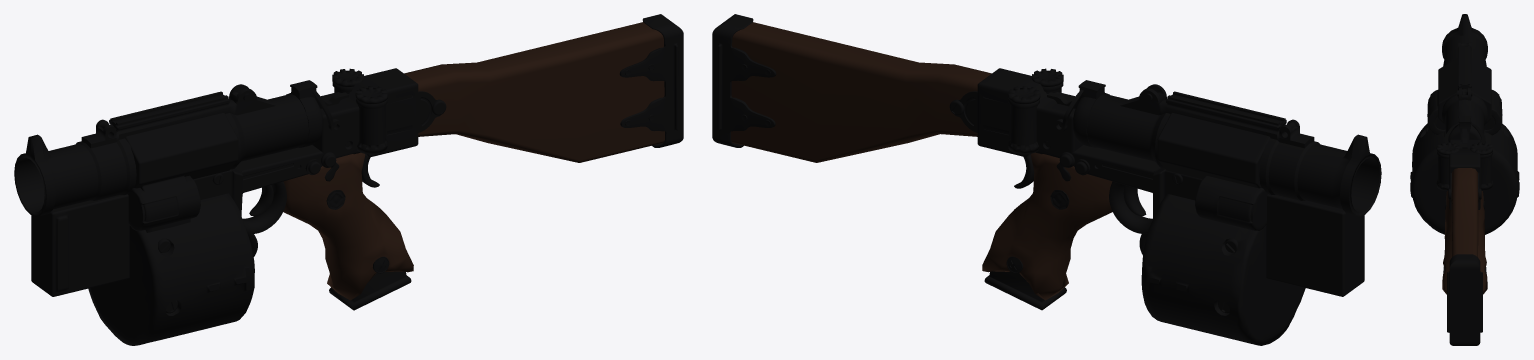
The picture shows the model from 3 angles, left to right: view 1: azimuth 30°, elevation 25°; view 2: azimuth 150°, elevation 25°; view 3: azimuth 270°, elevation 25°; orthographic projection. The views are drawn at different scales.
Parts seen in each view (by area): view 1: polySurface7, ROZOK, pPipe1, pCube2, pCube3, ZELEZ, MetalPrik, polySurface3 (×2), Bashnya, pCube9, KRUG_LOW, KUROK (+1 smaller); view 2: polySurface7, ROZOK, pPipe1, pCube2, pCube3, ZELEZ, MetalPrik, polySurface4 (×2), Bashnya, pCube9, KRUG_LOW, KUROK (+1 smaller); view 3: ROZOK, polySurface7, pPipe1, MetalPrik, pCube3, Bashnya, ZELEZ, KRUG_LOW, polySurface4, polySurface3, KRUK, pCube1.
Part boxes in pixels (x1=…): polySurface7: x1=283, y1=22, x2=664, y2=300; ROZOK: x1=88, y1=193, x2=254, y2=345; pPipe1: x1=14, y1=84, x2=308, y2=216; pCube2: x1=31, y1=145, x2=343, y2=296; pCube3: x1=125, y1=113, x2=238, y2=191; ZELEZ: x1=312, y1=68, x2=418, y2=157; MetalPrik: x1=619, y1=14, x2=683, y2=147; polySurface3 (×2): x1=128, y1=175, x2=200, y2=230; Bashnya: x1=332, y1=68, x2=387, y2=154; pCube9: x1=329, y1=271, x2=411, y2=310; KRUG_LOW: x1=286, y1=80, x2=322, y2=147; KUROK: x1=242, y1=181, x2=286, y2=233; polySurface7: x1=731, y1=22, x2=1112, y2=300; ROZOK: x1=1141, y1=193, x2=1305, y2=345; pPipe1: x1=1087, y1=84, x2=1381, y2=216; pCube2: x1=1052, y1=145, x2=1364, y2=296; pCube3: x1=1157, y1=113, x2=1270, y2=188; ZELEZ: x1=977, y1=68, x2=1083, y2=157; MetalPrik: x1=712, y1=14, x2=776, y2=147; polySurface4 (×2): x1=1195, y1=175, x2=1267, y2=230; Bashnya: x1=1008, y1=68, x2=1063, y2=154; pCube9: x1=984, y1=271, x2=1066, y2=310; KRUG_LOW: x1=1073, y1=80, x2=1109, y2=147; KUROK: x1=1109, y1=181, x2=1152, y2=233; ROZOK: x1=1410, y1=123, x2=1519, y2=234; polySurface7: x1=1442, y1=168, x2=1487, y2=294; pPipe1: x1=1442, y1=14, x2=1487, y2=134; MetalPrik: x1=1447, y1=254, x2=1482, y2=345; pCube3: x1=1437, y1=58, x2=1491, y2=123; Bashnya: x1=1436, y1=142, x2=1493, y2=190; ZELEZ: x1=1449, y1=139, x2=1480, y2=209; KRUG_LOW: x1=1446, y1=115, x2=1483, y2=142; polySurface4: x1=1484, y1=90, x2=1502, y2=135; polySurface3: x1=1427, y1=90, x2=1445, y2=134; KRUK: x1=1444, y1=122, x2=1485, y2=143; pCube1: x1=1462, y1=128, x2=1467, y2=148.
Bounding box in the file's own units: 4.33 × 1.55 × 0.8974.
